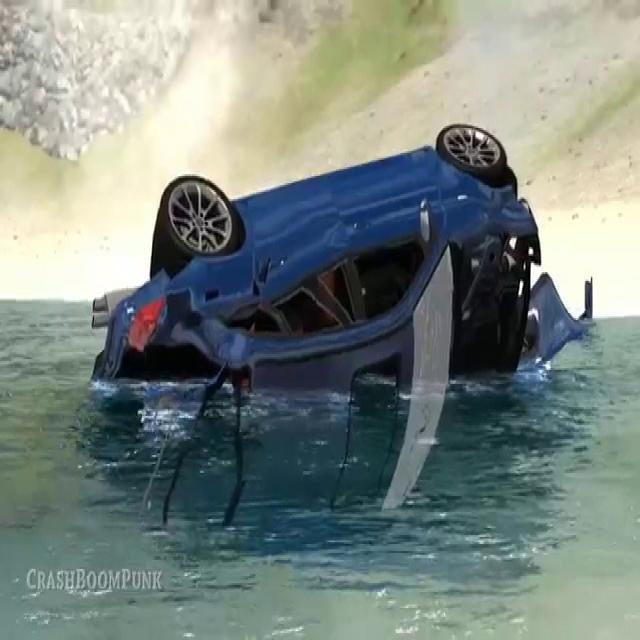accident: (77, 121, 594, 524)
